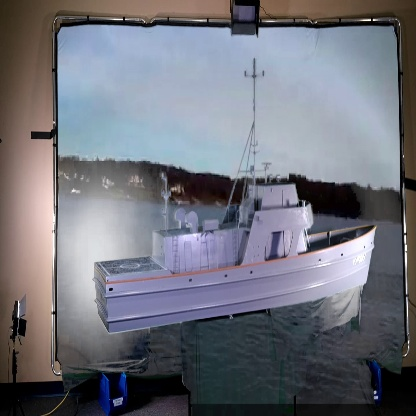YP689: (93, 53, 377, 335)
